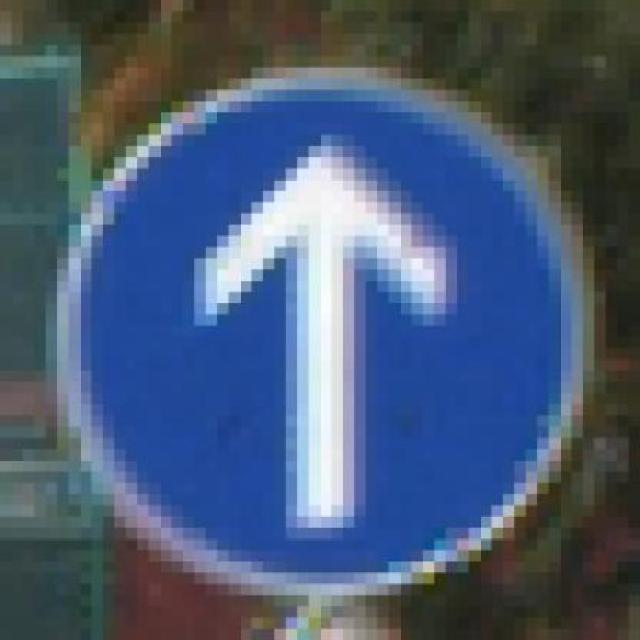Straight Ahead Only: (34, 67, 617, 607)
